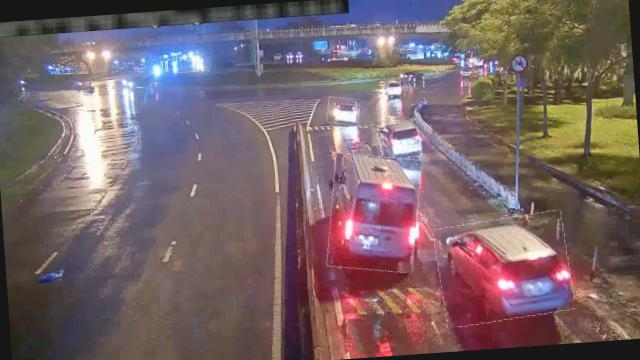Bus: (323, 150, 424, 275)
Car: (434, 212, 574, 326), (377, 120, 422, 161), (326, 96, 360, 125), (382, 78, 407, 97)
